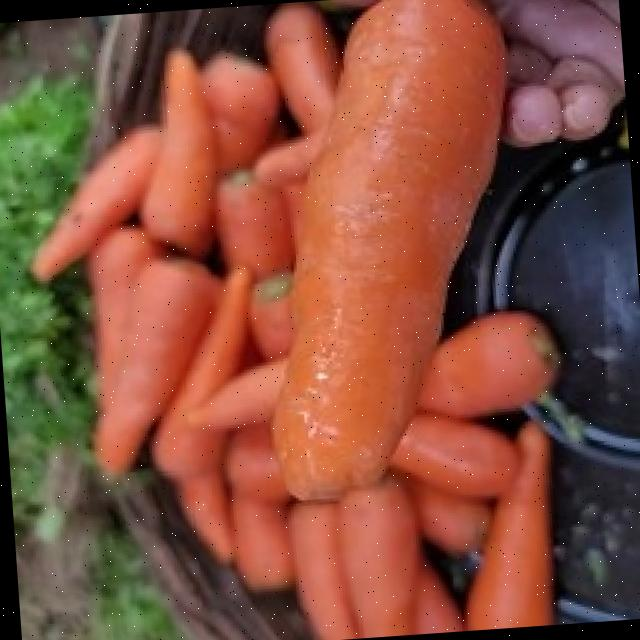carrot: (30, 0, 550, 640), (270, 0, 501, 502), (272, 0, 503, 497), (416, 542, 480, 620), (267, 360, 289, 469)
